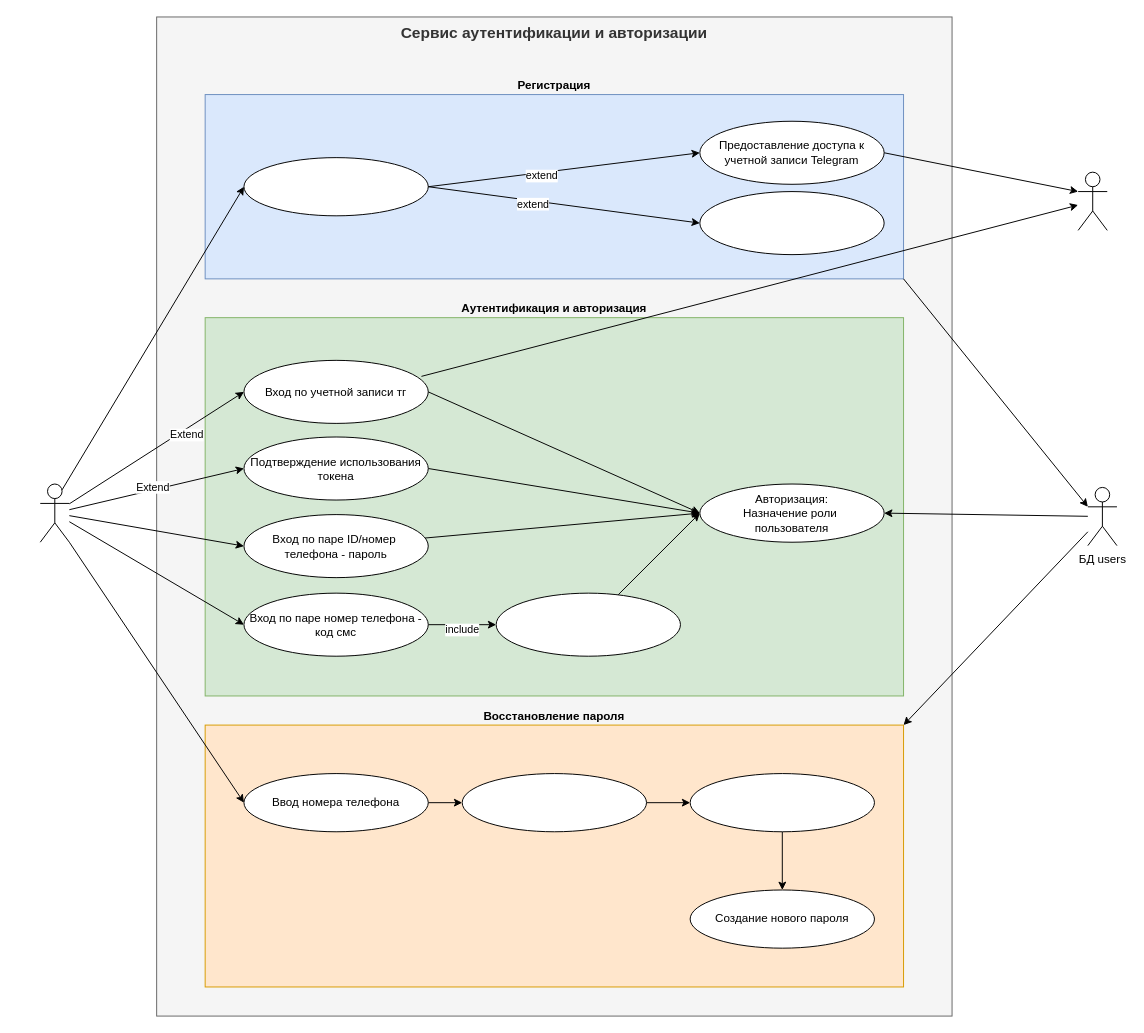
Image size: 1144x1033. Some labels were removed from this diagram. Each missing label, with the centre of its shape:
Telegram API: point (1092, 200)
Ввод данных пользователя: point (335, 186)
Ввод полученного кода: point (781, 802)
Ввод полученной СМС: point (587, 624)
Ответ на секретный вопрос: point (554, 802)
Получение токена: point (791, 223)
Пользователь: point (54, 512)
